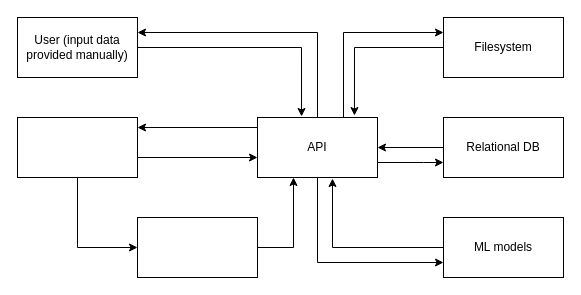
Some shapes in this 581 by 295 pixel diagram are drawn without their labels. Each missing label, with the centre of its shape:
"3rd party login providers" goes at point (197, 247).
"User" goes at point (77, 147).
